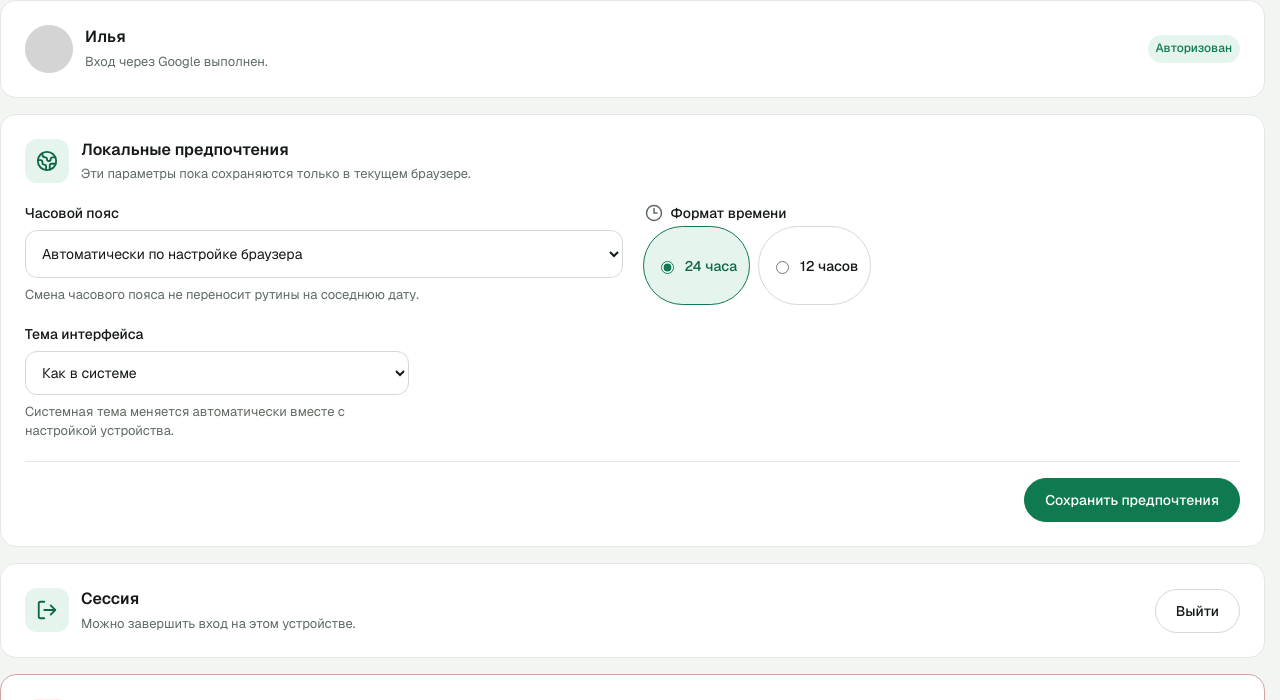
Test case: ProfileSettings › оставляет сессию, если выход не удался
This screenshot has width=1280, height=700.
Expected: the heading "Илья" is shown, 85,26 -> 126,47
Click the button "Выйти" at [1197, 611], box 1155,589 -> 1240,633
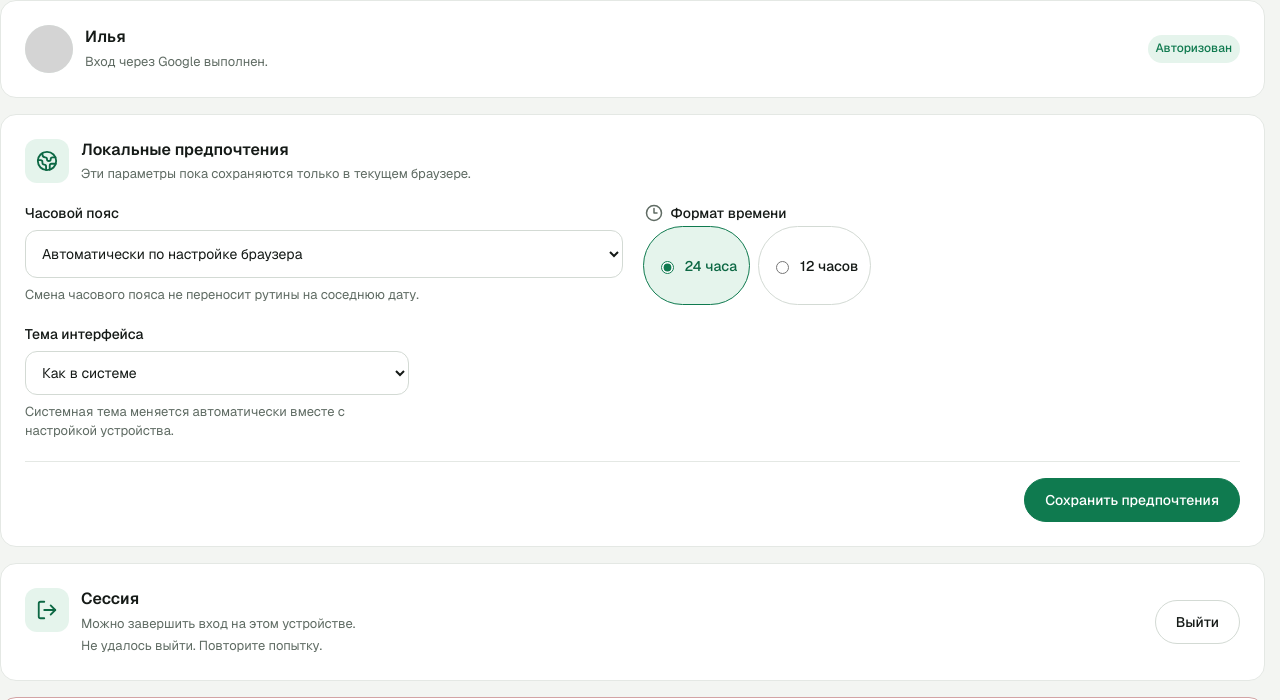
Expected: the text "Авторизован" is shown, 1148,35 -> 1240,63
Result: the text "Не удалось выйти. Повторите попытку." is shown at 81,637 -> 322,654
